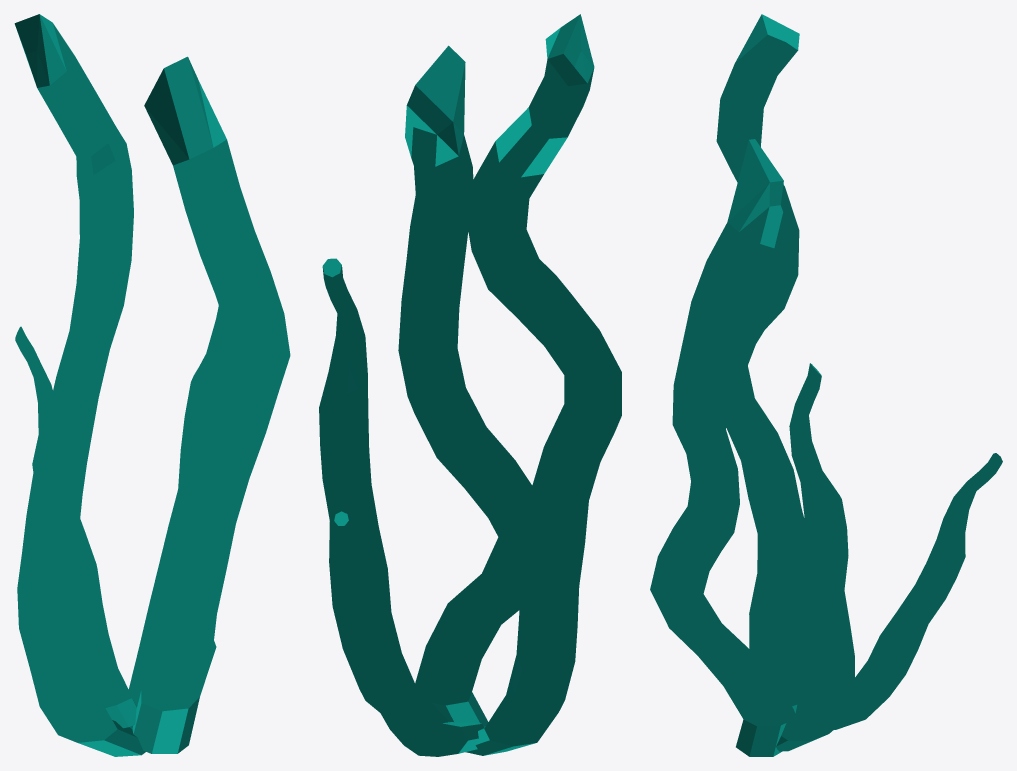
The model's file is seaweed.glb.
3 views of the same model, side by side, from view 1: azimuth 30°, elevation 25°; view 2: azimuth 150°, elevation 25°; view 3: azimuth 270°, elevation 25° (orthographic). The views are drawn at different scales.
Parts seen in each view (by area): view 1: Node; view 2: Node; view 3: Node.
Boxes of the visible parts, x1=… form: Node: x1=14, y1=14, x2=290, y2=756; Node: x1=319, y1=14, x2=621, y2=756; Node: x1=650, y1=14, x2=1002, y2=756.
Bounding box in the file's own units: 0.2797 × 0.8166 × 0.3837.
Materials: 1 (1 with a texture image).
